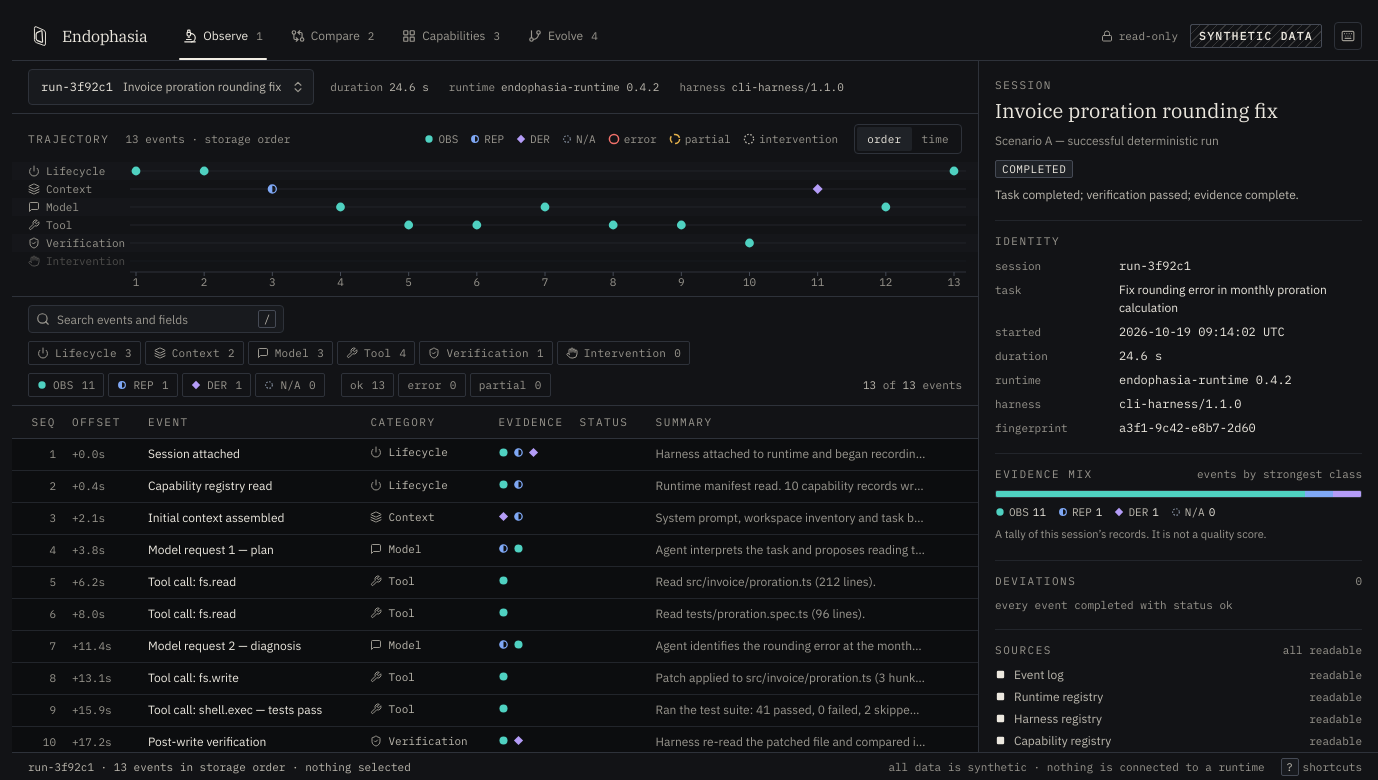
Test: Compare states its limits › draws no link for an unmatched event, and says it is not an error
Press 2
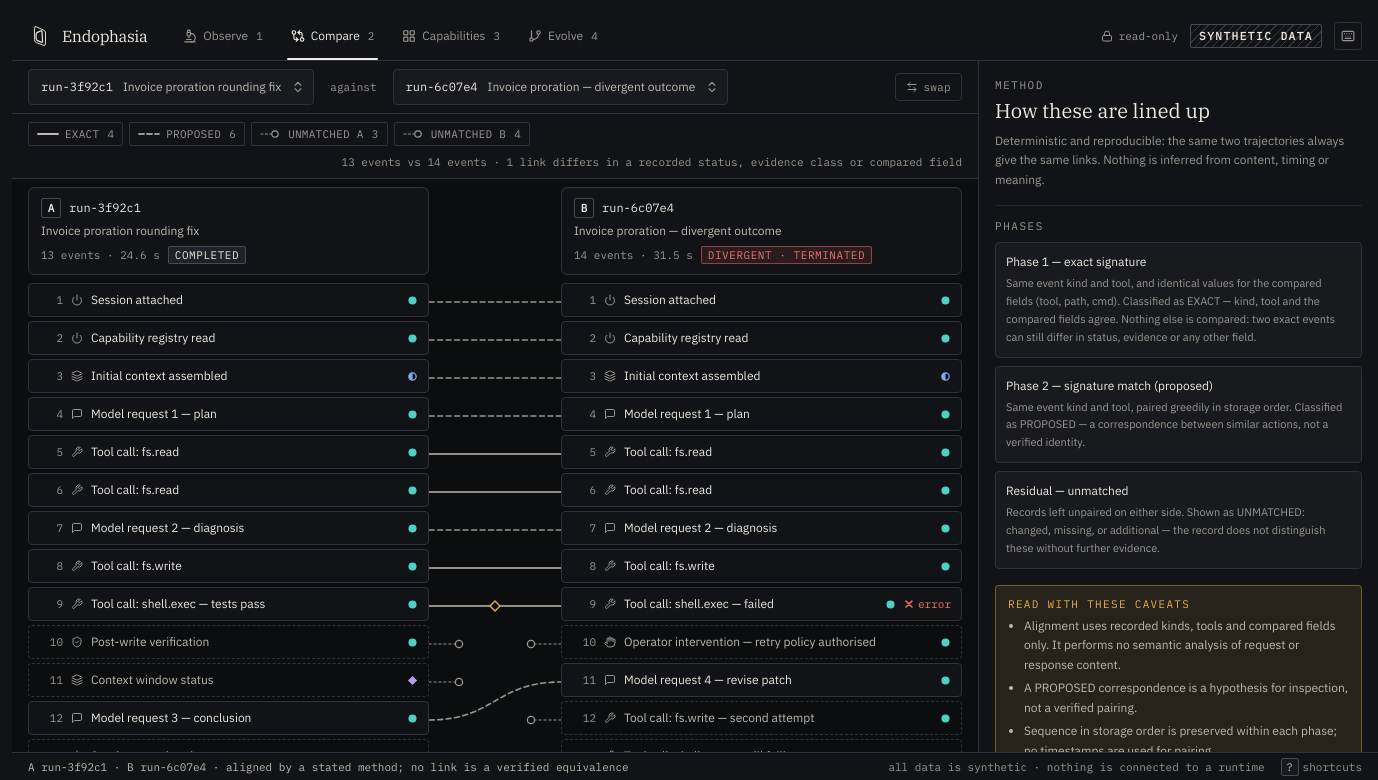
Click the button with aria-label "event 10:": {"x": 150, "y": 642} [28, 625, 429, 659]
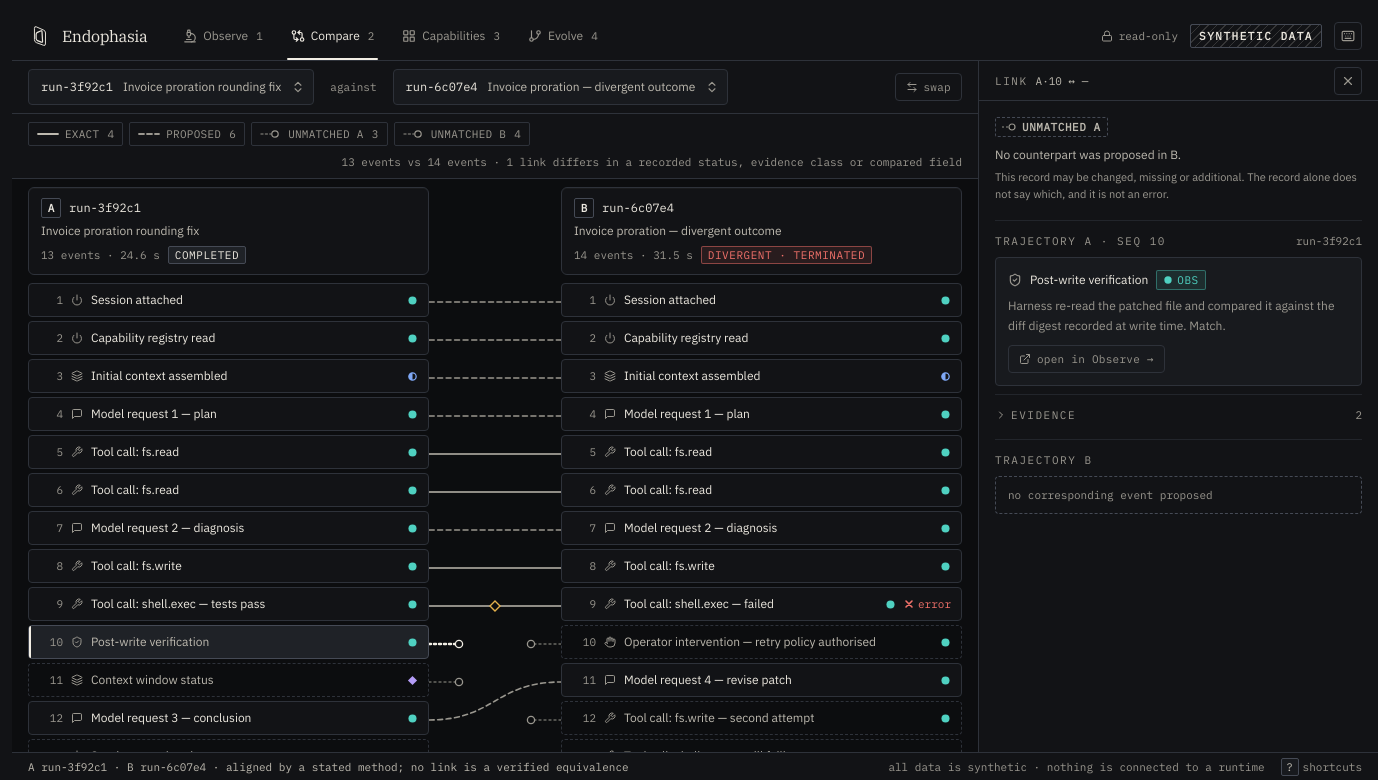
Check: the text "No counterpart was proposed in B" is shown, box [995, 147, 1181, 162]
Check: the text "not an error" is shown, box [995, 170, 1357, 201]
